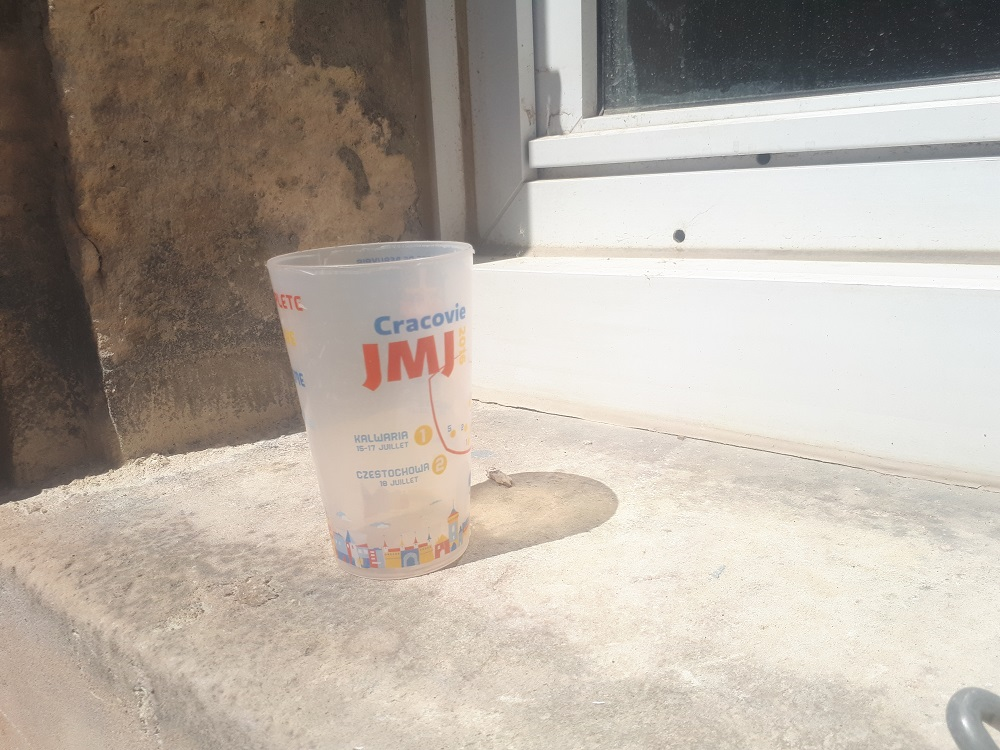ecocup: (264, 239, 478, 584)
